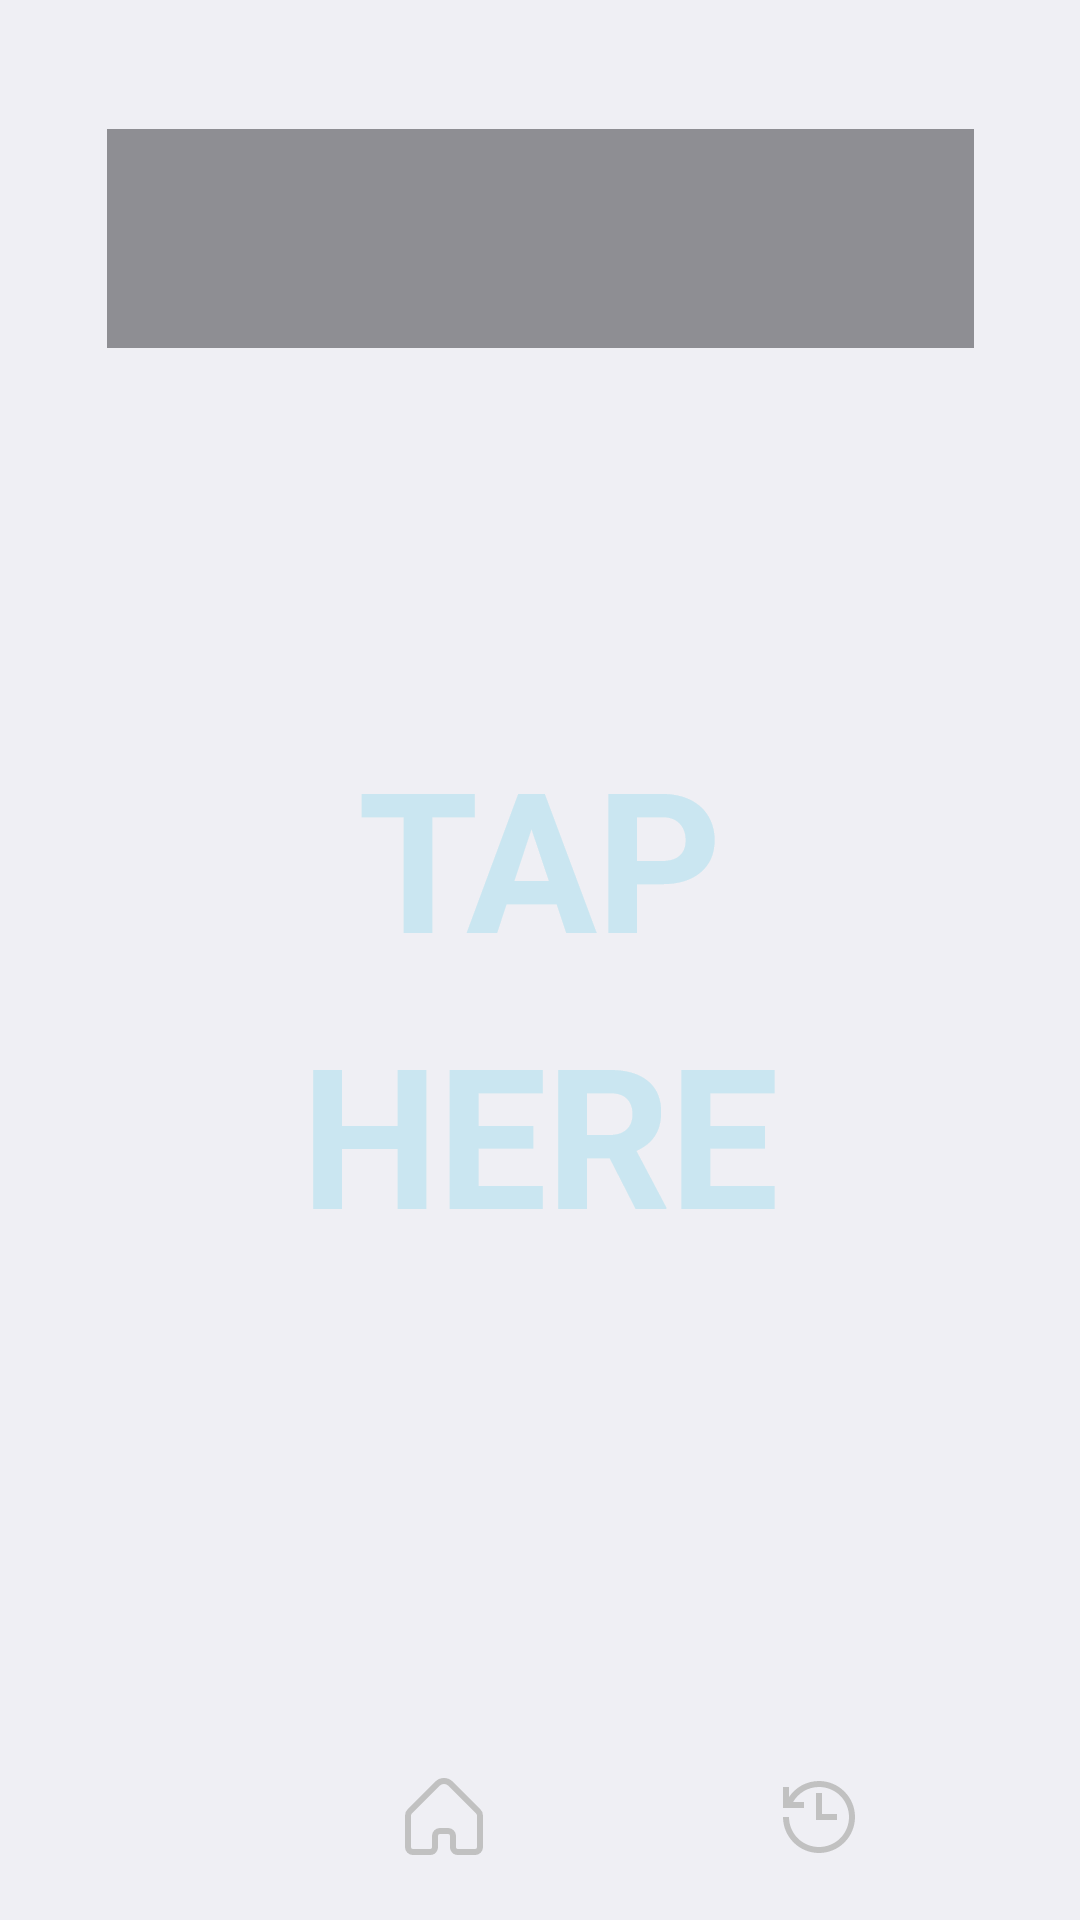

Screen size 1080w x 1920h. Icon name, then its center in pixels as [x,y]:
history: [819,1817]
home: [444,1816]
